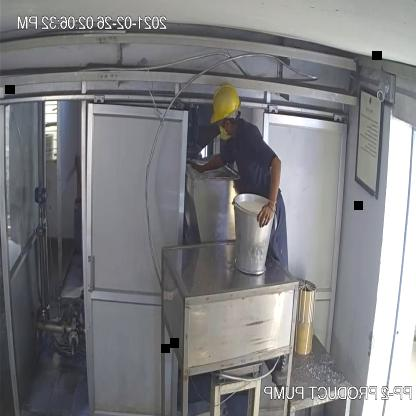helmet: (207, 83, 248, 127)
